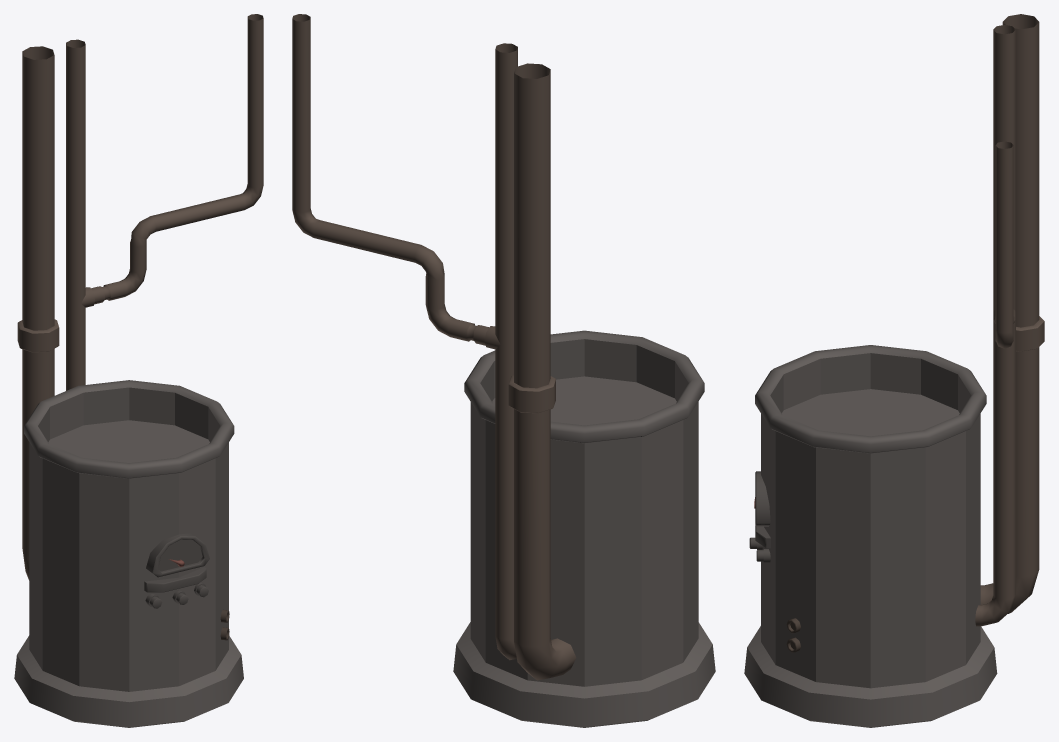
File: machineChouchen 1.fbx
3 renders of one model, left to right at view 1: azimuth 30°, elevation 25°; view 2: azimuth 150°, elevation 25°; view 3: azimuth 270°, elevation 25°, orthographic. The views are drawn at different scales.
Parts seen in each view (by area): view 1: polySurface1, polySurface9, polySurface10, pTorus8, polySurface8, polySurface7; view 2: polySurface1, polySurface9, polySurface10, pTorus8; view 3: polySurface1, polySurface9, polySurface10, pTorus8, polySurface8.
Part boxes in pixels (<box>): polySurface1: <box>14,380,243,727</box>; polySurface9: <box>17,46,59,580</box>; polySurface10: <box>66,39,85,390</box>; pTorus8: <box>81,14,263,307</box>; polySurface8: <box>146,533,209,577</box>; polySurface7: <box>144,567,206,592</box>; polySurface1: <box>453,330,715,727</box>; polySurface9: <box>508,63,576,680</box>; polySurface10: <box>495,43,517,660</box>; pTorus8: <box>292,14,500,349</box>; polySurface1: <box>744,345,997,727</box>; polySurface9: <box>980,14,1044,613</box>; polySurface10: <box>975,25,1015,626</box>; pTorus8: <box>993,141,1015,348</box>; polySurface8: <box>755,471,770,526</box>.
Size of the model in its own units: 510 by 981 by 410.
